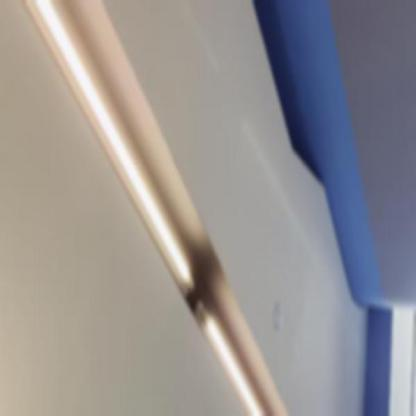light_on: (9, 0, 200, 299), (192, 292, 279, 414)
